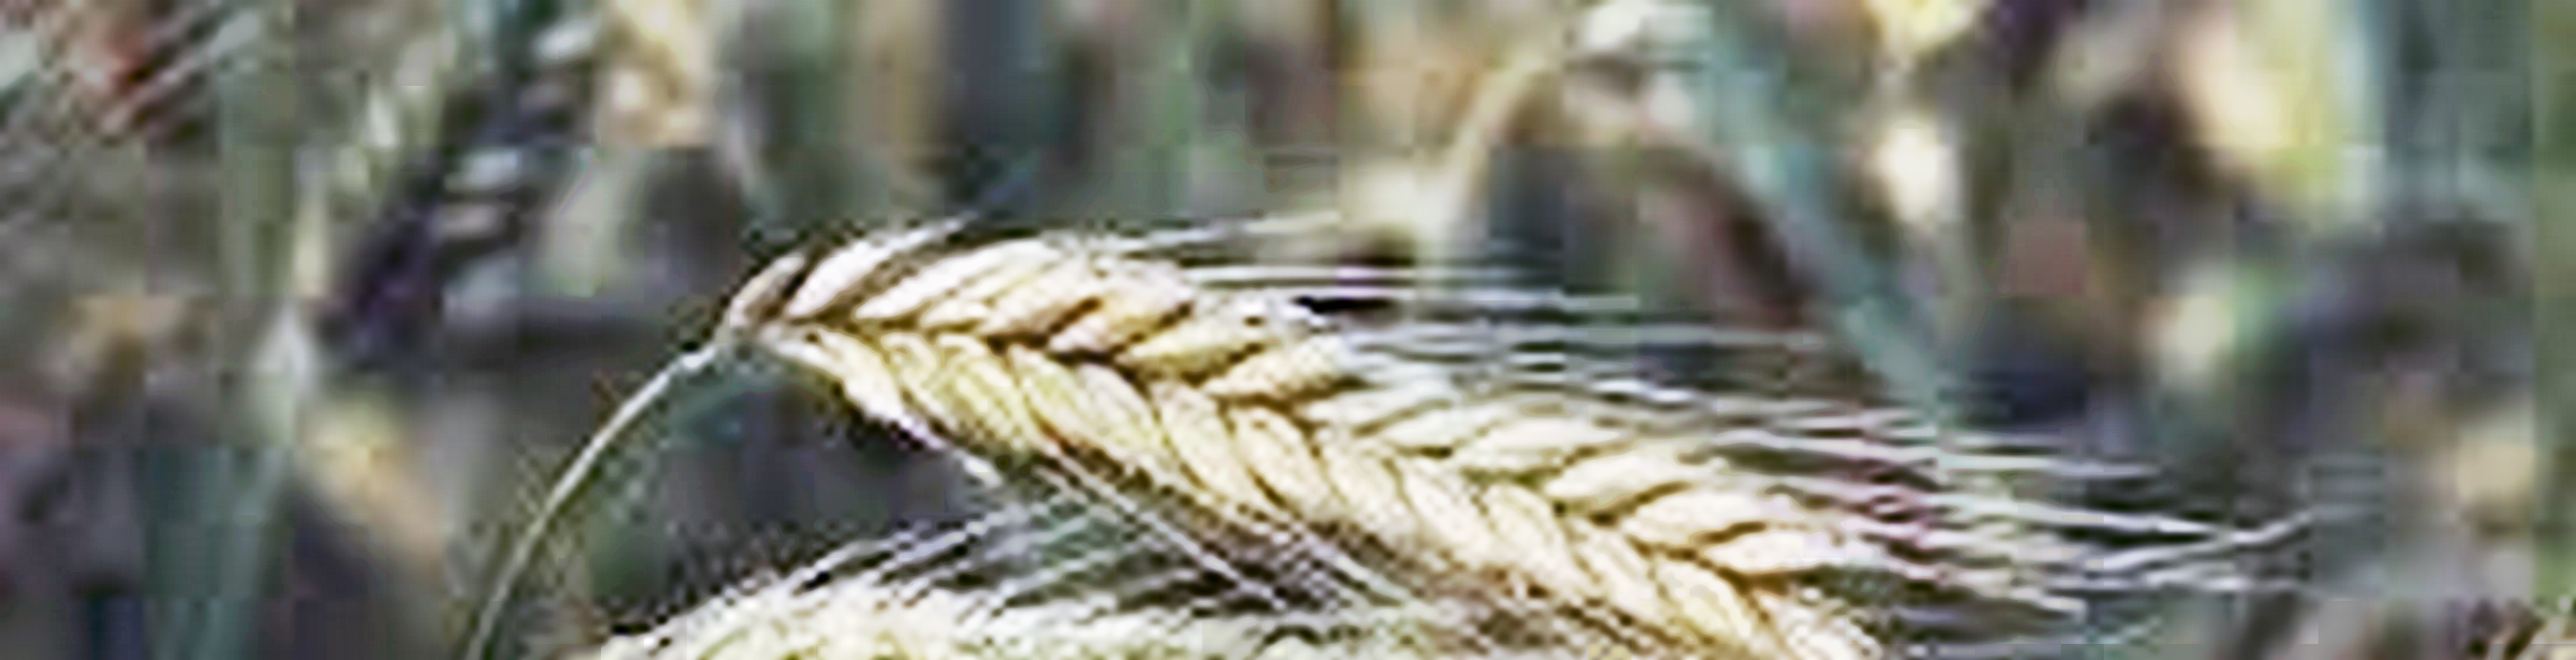Healthy Wheat: (662, 197, 1937, 660)
